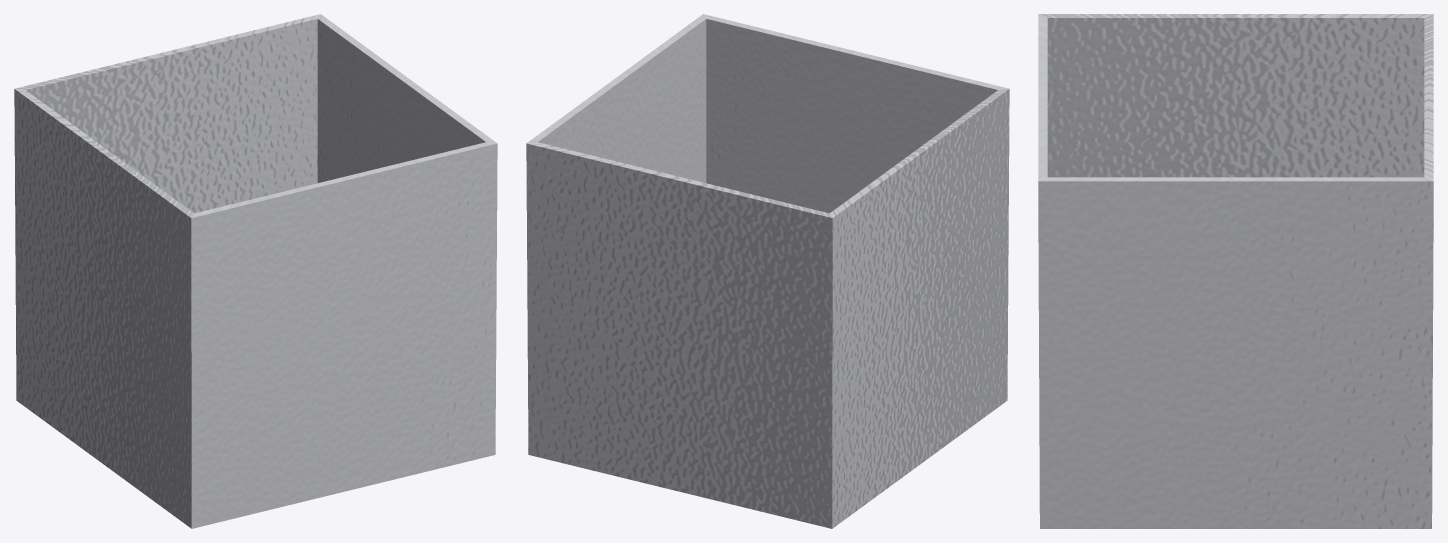
The model's file is Tanque.fbx.
3 renders of one model, left to right at view 1: azimuth 30°, elevation 25°; view 2: azimuth 150°, elevation 25°; view 3: azimuth 270°, elevation 25°, orthographic. The views are drawn at different scales.
Parts seen in each view (by area): view 1: Cube; view 2: Cube; view 3: Cube.
Boxes of the visible parts, x1=… form: Cube: x1=14, y1=14, x2=497, y2=528; Cube: x1=526, y1=14, x2=1009, y2=528; Cube: x1=1038, y1=14, x2=1433, y2=528.
Bounding box in the file's own units: 210 × 204 × 210.
